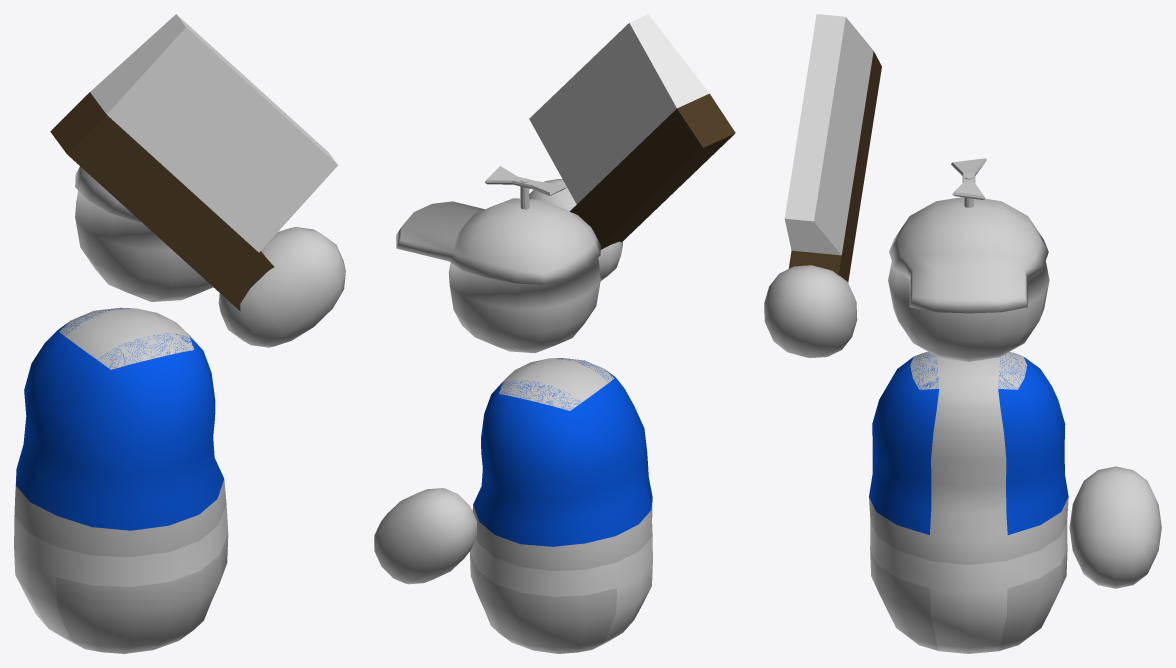
File: Dzieciak.fbx
The picture shows the model from 3 angles, left to right: view 1: azimuth 30°, elevation 25°; view 2: azimuth 150°, elevation 25°; view 3: azimuth 270°, elevation 25°; orthographic projection. The views are drawn at different scales.
Parts seen in each view (by area): view 1: Cube.007, Cube.008, Cube.006, Cube.001; view 2: Cube.007, Cube.008, Cube.001, Cube.002, Cube.006; view 3: Cube.007, Cube.001, Cube.008, Cube.002, Cube.006.
Boxes of the visible parts, box(x1,y1,x2,y2) form: Cube.007: box(14, 307, 228, 653); Cube.008: box(50, 14, 337, 310); Cube.006: box(218, 227, 345, 347); Cube.001: box(75, 166, 212, 301); Cube.007: box(470, 358, 652, 653); Cube.008: box(529, 14, 735, 249); Cube.001: box(396, 166, 600, 352); Cube.002: box(374, 488, 477, 584); Cube.006: box(529, 179, 622, 280); Cube.007: box(869, 351, 1068, 653); Cube.001: box(888, 158, 1049, 361); Cube.008: box(784, 14, 881, 282); Cube.002: box(1069, 466, 1161, 588); Cube.006: box(764, 265, 857, 358).
Bounding box in the file's own units: 138 × 289 × 169.
